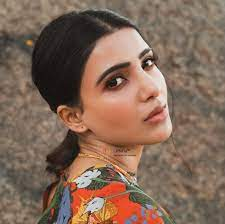n.blunt: (134, 66, 169, 101)
